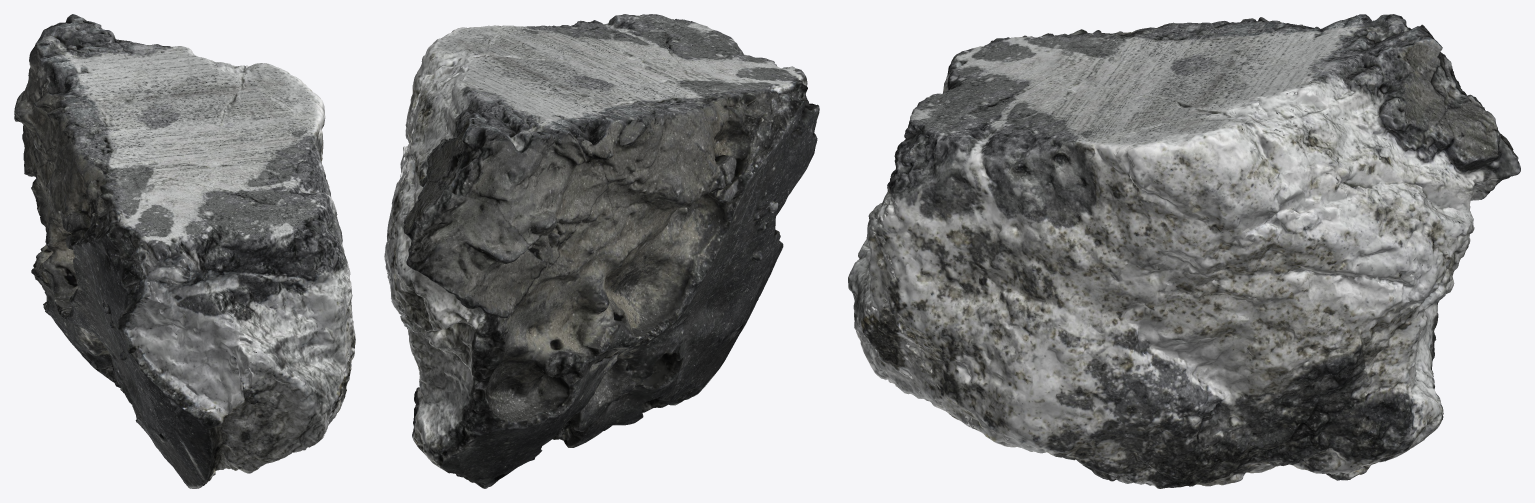
The model's file is rock-65035.glb.
3 views of the same model, side by side, from view 1: azimuth 30°, elevation 25°; view 2: azimuth 150°, elevation 25°; view 3: azimuth 270°, elevation 25° (orthographic). The views are drawn at different scales.
Bounding box in the file's own units: 0.0462 × 0.0589 × 0.082.
Materials: 1 (1 with a texture image).
